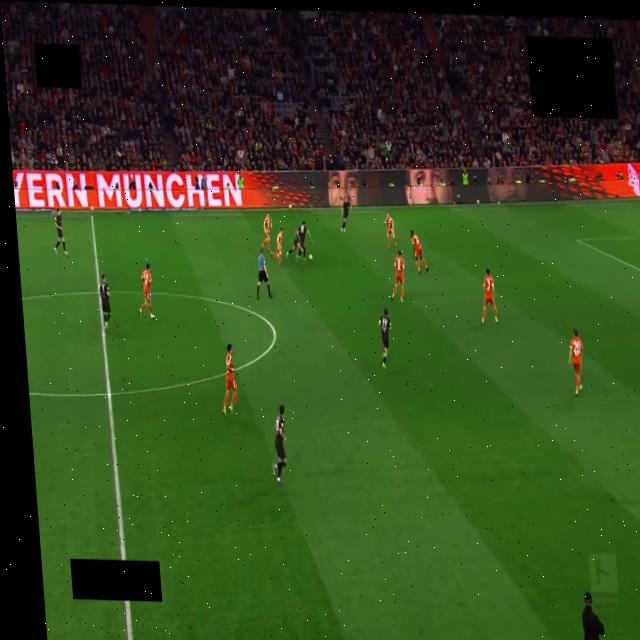ball: (309, 254, 312, 260)
player: (273, 405, 287, 483), (223, 344, 237, 416), (569, 329, 583, 395), (482, 269, 499, 323), (140, 264, 155, 319), (98, 273, 112, 330), (410, 231, 428, 274), (379, 308, 391, 368), (54, 209, 68, 254), (296, 222, 312, 261), (392, 251, 404, 302), (272, 228, 283, 267), (385, 213, 396, 248), (263, 213, 272, 253), (286, 230, 299, 257), (341, 197, 351, 232)
referee: (257, 247, 271, 299)
